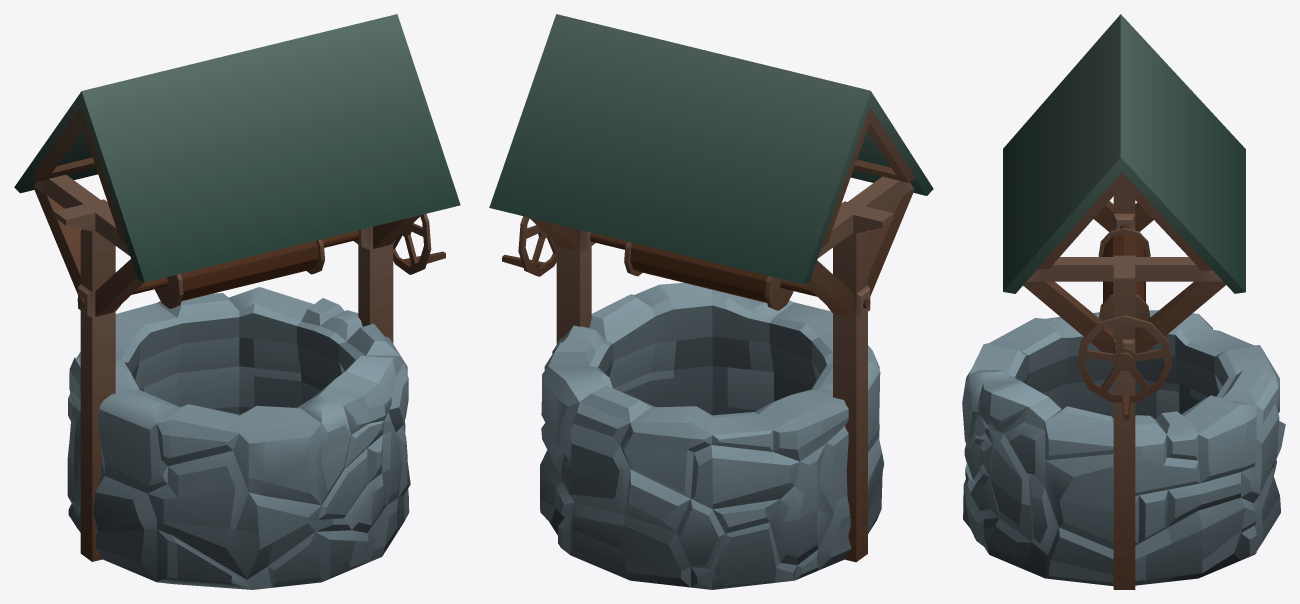
The model's file is well.fbx.
The picture shows the model from 3 angles, left to right: view 1: azimuth 30°, elevation 25°; view 2: azimuth 150°, elevation 25°; view 3: azimuth 270°, elevation 25°; orthographic projection. The views are drawn at different scales.
Parts seen in each view (by area): view 1: stone_well, roof, posts, spindle; view 2: stone_well, roof, posts, spindle; view 3: stone_well, roof, posts, spindle.
Part boxes in pixels (bbox=[...]): stone_well: bbox=[67, 287, 410, 589]; roof: bbox=[14, 14, 460, 282]; posts: bbox=[33, 174, 421, 561]; spindle: bbox=[77, 213, 445, 308]; stone_well: bbox=[540, 283, 884, 589]; roof: bbox=[489, 14, 933, 284]; posts: bbox=[529, 176, 914, 562]; spindle: bbox=[502, 216, 870, 310]; stone_well: bbox=[962, 310, 1285, 586]; roof: bbox=[1003, 14, 1245, 293]; posts: bbox=[1023, 186, 1225, 589]; spindle: bbox=[1077, 224, 1172, 419].
Size of the model in its own units: 49.18 by 57.3 by 38.5.
Materials: 1 (1 with a texture image).
